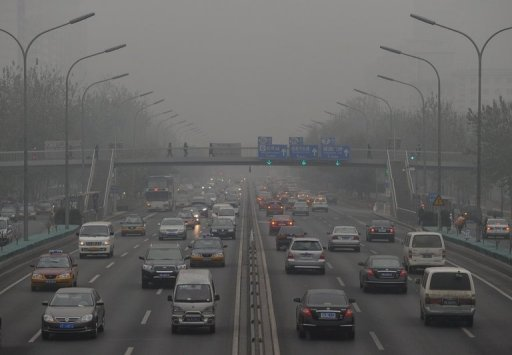bus: (143, 173, 174, 210)
car: (417, 265, 476, 328), (40, 286, 106, 338), (294, 287, 356, 339), (169, 272, 218, 333), (402, 229, 446, 273), (360, 252, 406, 292), (29, 253, 77, 290), (284, 236, 325, 273), (139, 255, 183, 287), (78, 220, 114, 257), (188, 236, 225, 266), (328, 225, 361, 250), (275, 225, 303, 249), (156, 217, 185, 240), (117, 213, 145, 236), (365, 221, 395, 241), (483, 217, 509, 237), (11, 198, 36, 218), (268, 215, 295, 232), (210, 218, 234, 236), (19, 203, 36, 221), (257, 193, 275, 210), (1, 206, 19, 222), (180, 211, 193, 232), (188, 203, 199, 224), (291, 203, 309, 215), (312, 197, 327, 210), (197, 200, 208, 217)
